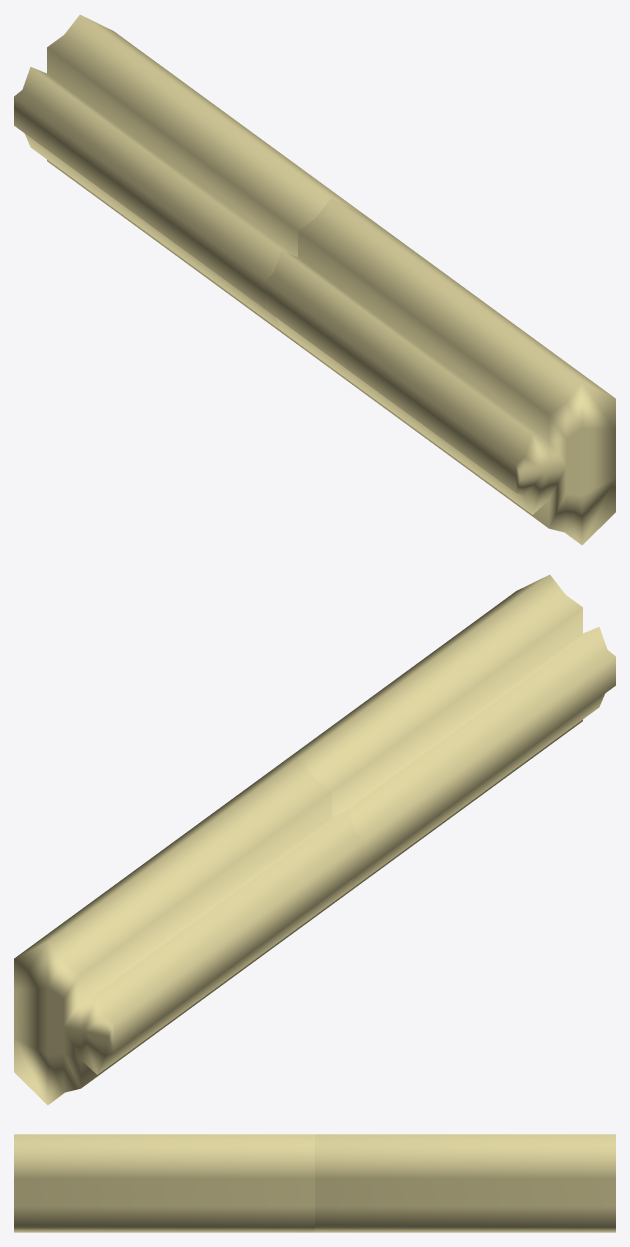
Rendered from Wall_Orn_05_x2.fbx.
The picture shows the model from 3 angles, top to bottom: view 1: azimuth 30°, elevation 25°; view 2: azimuth 150°, elevation 25°; view 3: azimuth 270°, elevation 25°; orthographic projection. The views are drawn at different scales.
Parts seen in each view (by area): view 1: Wall_Orn_05_x2; view 2: Wall_Orn_05_x2; view 3: Wall_Orn_05_x2.
Part boxes in pixels (bbox=[...]): Wall_Orn_05_x2: bbox=[14, 14, 615, 545]; Wall_Orn_05_x2: bbox=[14, 574, 615, 1105]; Wall_Orn_05_x2: bbox=[14, 1134, 615, 1232].
Bounding box in the file's own units: 34.45 × 53.89 × 300.
